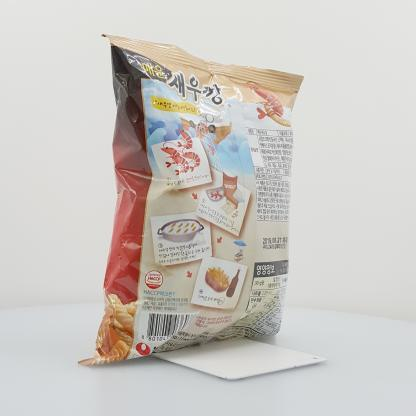Plastic Packaging: (84, 19, 308, 373)
